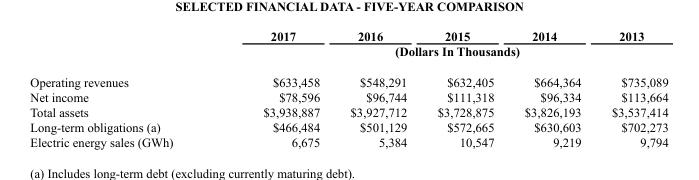table: (29, 28, 667, 149)
table column: (29, 28, 217, 149), (217, 28, 334, 149), (334, 28, 421, 149), (421, 28, 508, 149), (508, 28, 595, 149), (595, 28, 667, 149)
table column header: (29, 28, 667, 66)
table row: (29, 43, 667, 66), (29, 66, 667, 89), (29, 28, 667, 43), (29, 89, 667, 104), (29, 104, 667, 119), (29, 119, 667, 134), (29, 134, 667, 149)
table spanning cell: (217, 43, 667, 66)
